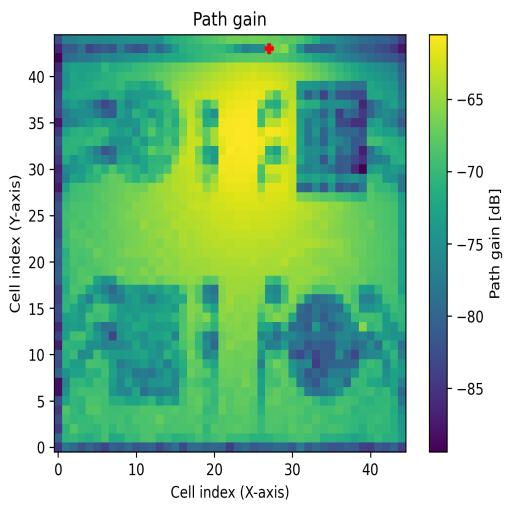Concrete: (297, 81, 368, 201)
Glass: (118, 78, 179, 183)
Metal: (289, 286, 382, 402)
Wood: (108, 285, 187, 407)
